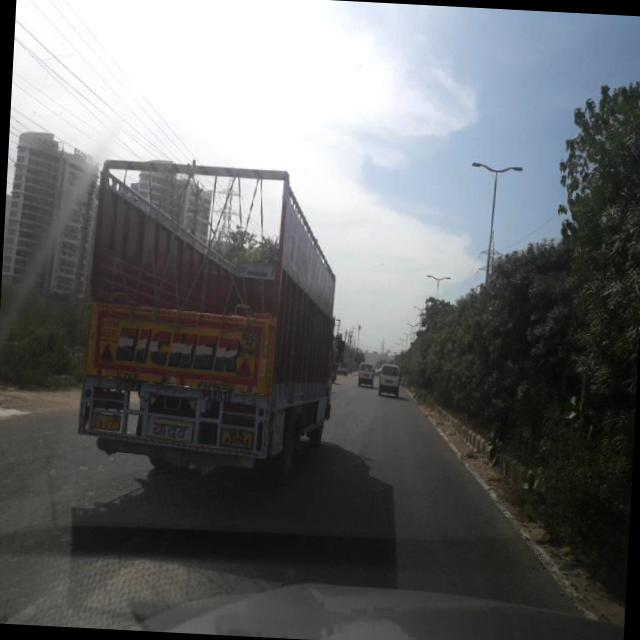crack: (299, 442, 552, 596)
